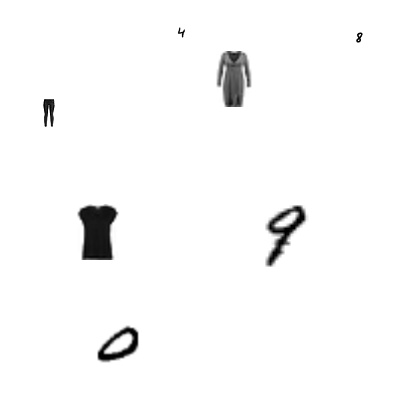0: (90, 318, 146, 374)
4: (174, 25, 188, 39)
8: (352, 30, 366, 44)
9: (242, 188, 326, 272)
Dress: (205, 51, 261, 107)
T-shirt/top: (70, 204, 126, 260)
Trouser: (35, 99, 63, 127)
